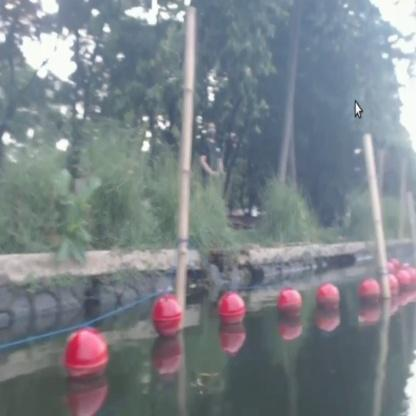red_buoy: (68, 334, 107, 382), (154, 297, 182, 339), (219, 295, 245, 328), (278, 288, 300, 322), (318, 283, 340, 313), (361, 276, 381, 308), (401, 269, 415, 294), (390, 270, 398, 305)
